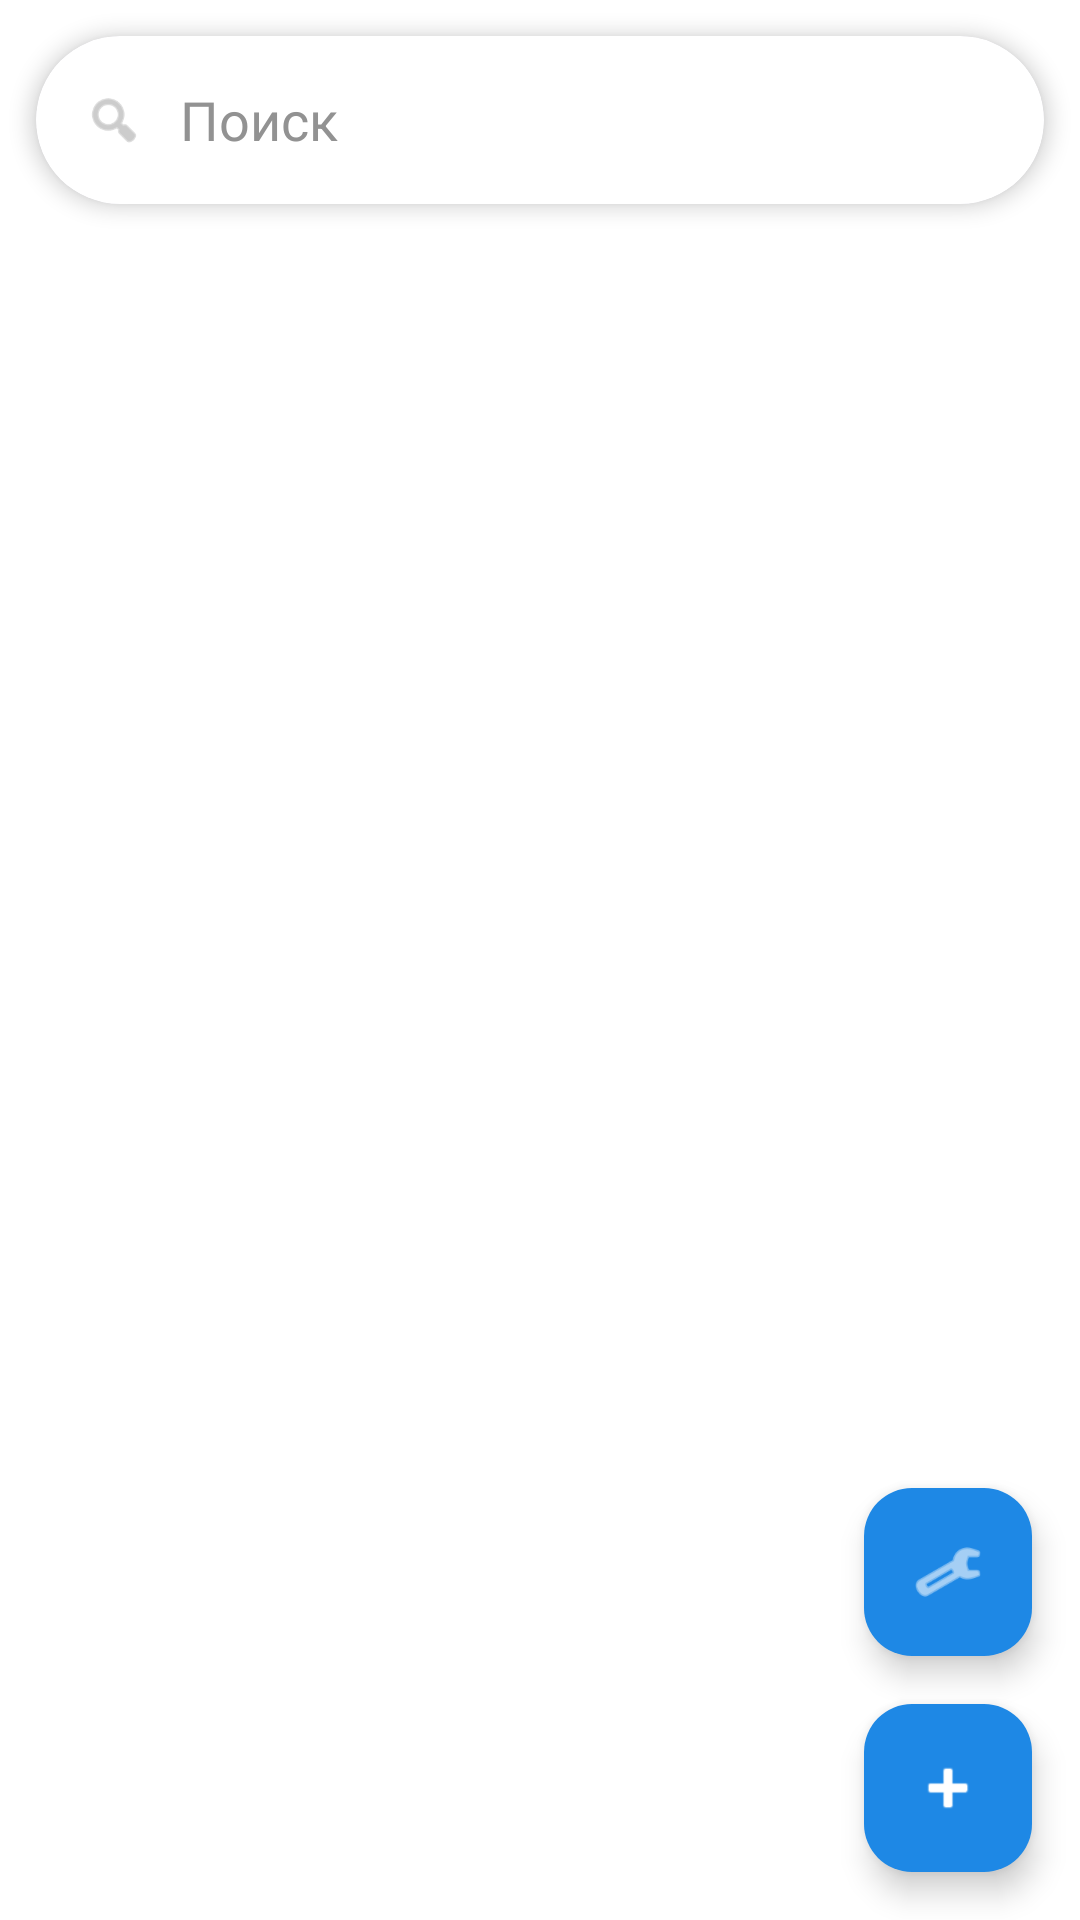

Screen size 1080px×1920px. Icon name, then its box in pixels as (x1, y1, x2, y2):
add: (864, 1704, 1032, 1872)
manage: (864, 1488, 1032, 1656)
search: (92, 98, 136, 142)
